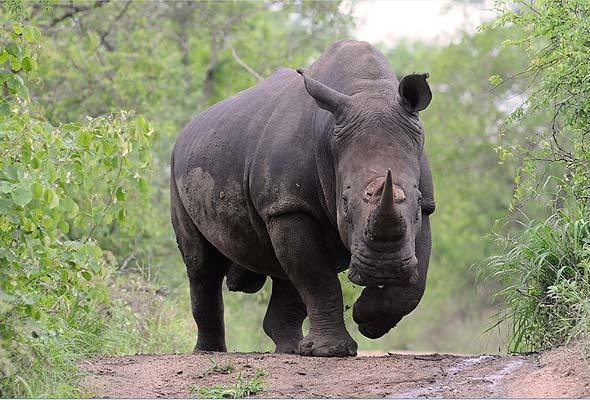rhino: (166, 37, 434, 359)
